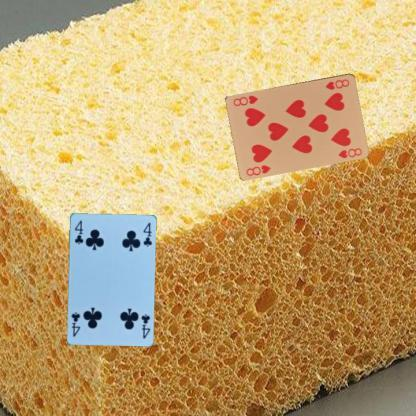4c: (139, 311, 151, 340), (72, 218, 84, 245)
8h: (323, 76, 351, 91), (244, 162, 272, 177)
